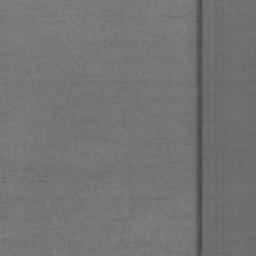Welding line: (193, 0, 204, 256)
